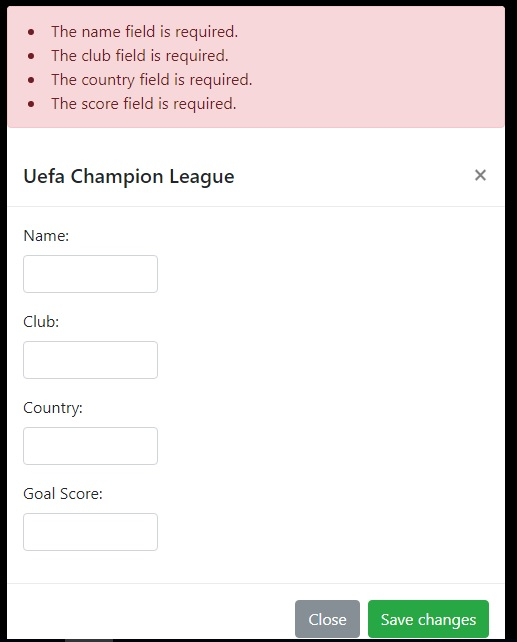error_message: (48, 24, 258, 111)
